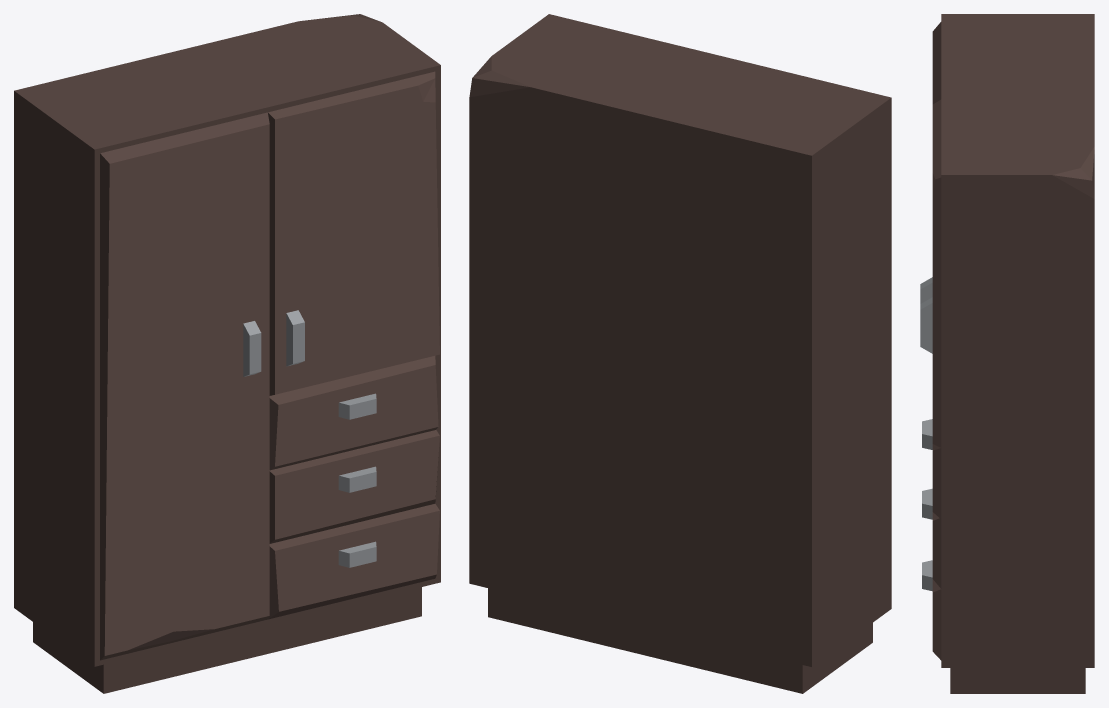
File: SM_Prop_Wardrobe_01_Combined.fbx
The picture shows the model from 3 angles, left to right: view 1: azimuth 30°, elevation 25°; view 2: azimuth 150°, elevation 25°; view 3: azimuth 270°, elevation 25°; orthographic projection. The views are drawn at different scales.
Visible parts, largest first — view 1: SM_Prop_Wardrobe_01_Combined; view 2: SM_Prop_Wardrobe_01_Combined; view 3: SM_Prop_Wardrobe_01_Combined.
Boxes of the visible parts, bbox=[...] form: SM_Prop_Wardrobe_01_Combined: bbox=[14, 14, 440, 693]; SM_Prop_Wardrobe_01_Combined: bbox=[469, 14, 891, 693]; SM_Prop_Wardrobe_01_Combined: bbox=[920, 14, 1094, 693].
Size of the model in its own units: 124 by 189 by 56.86.
